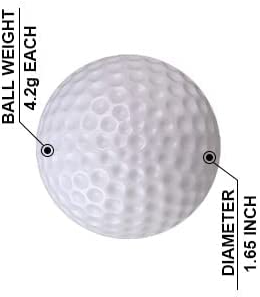/: (222, 169, 232, 176)
HONI: (244, 196, 256, 234)
